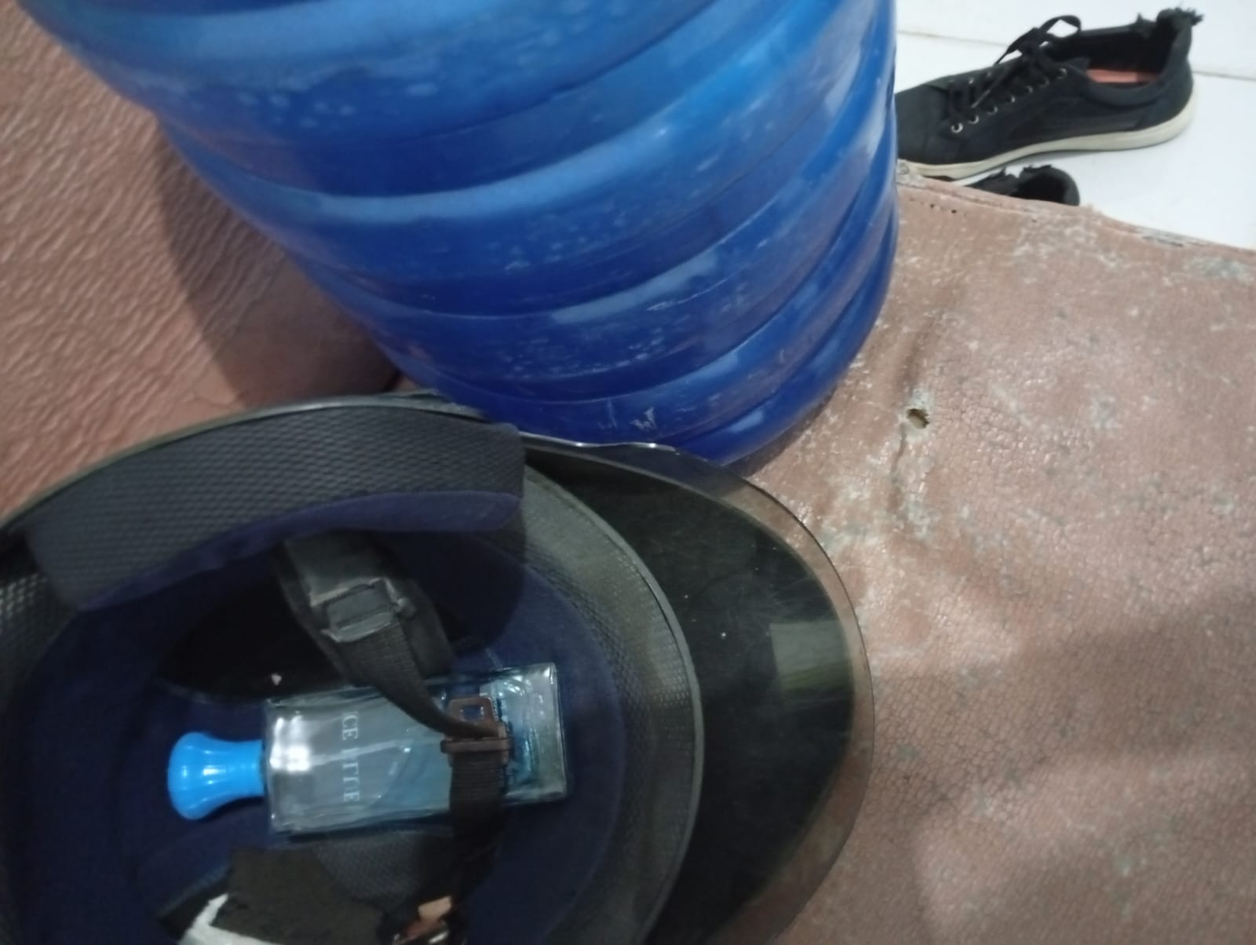Parfum: (121, 650, 605, 856)
